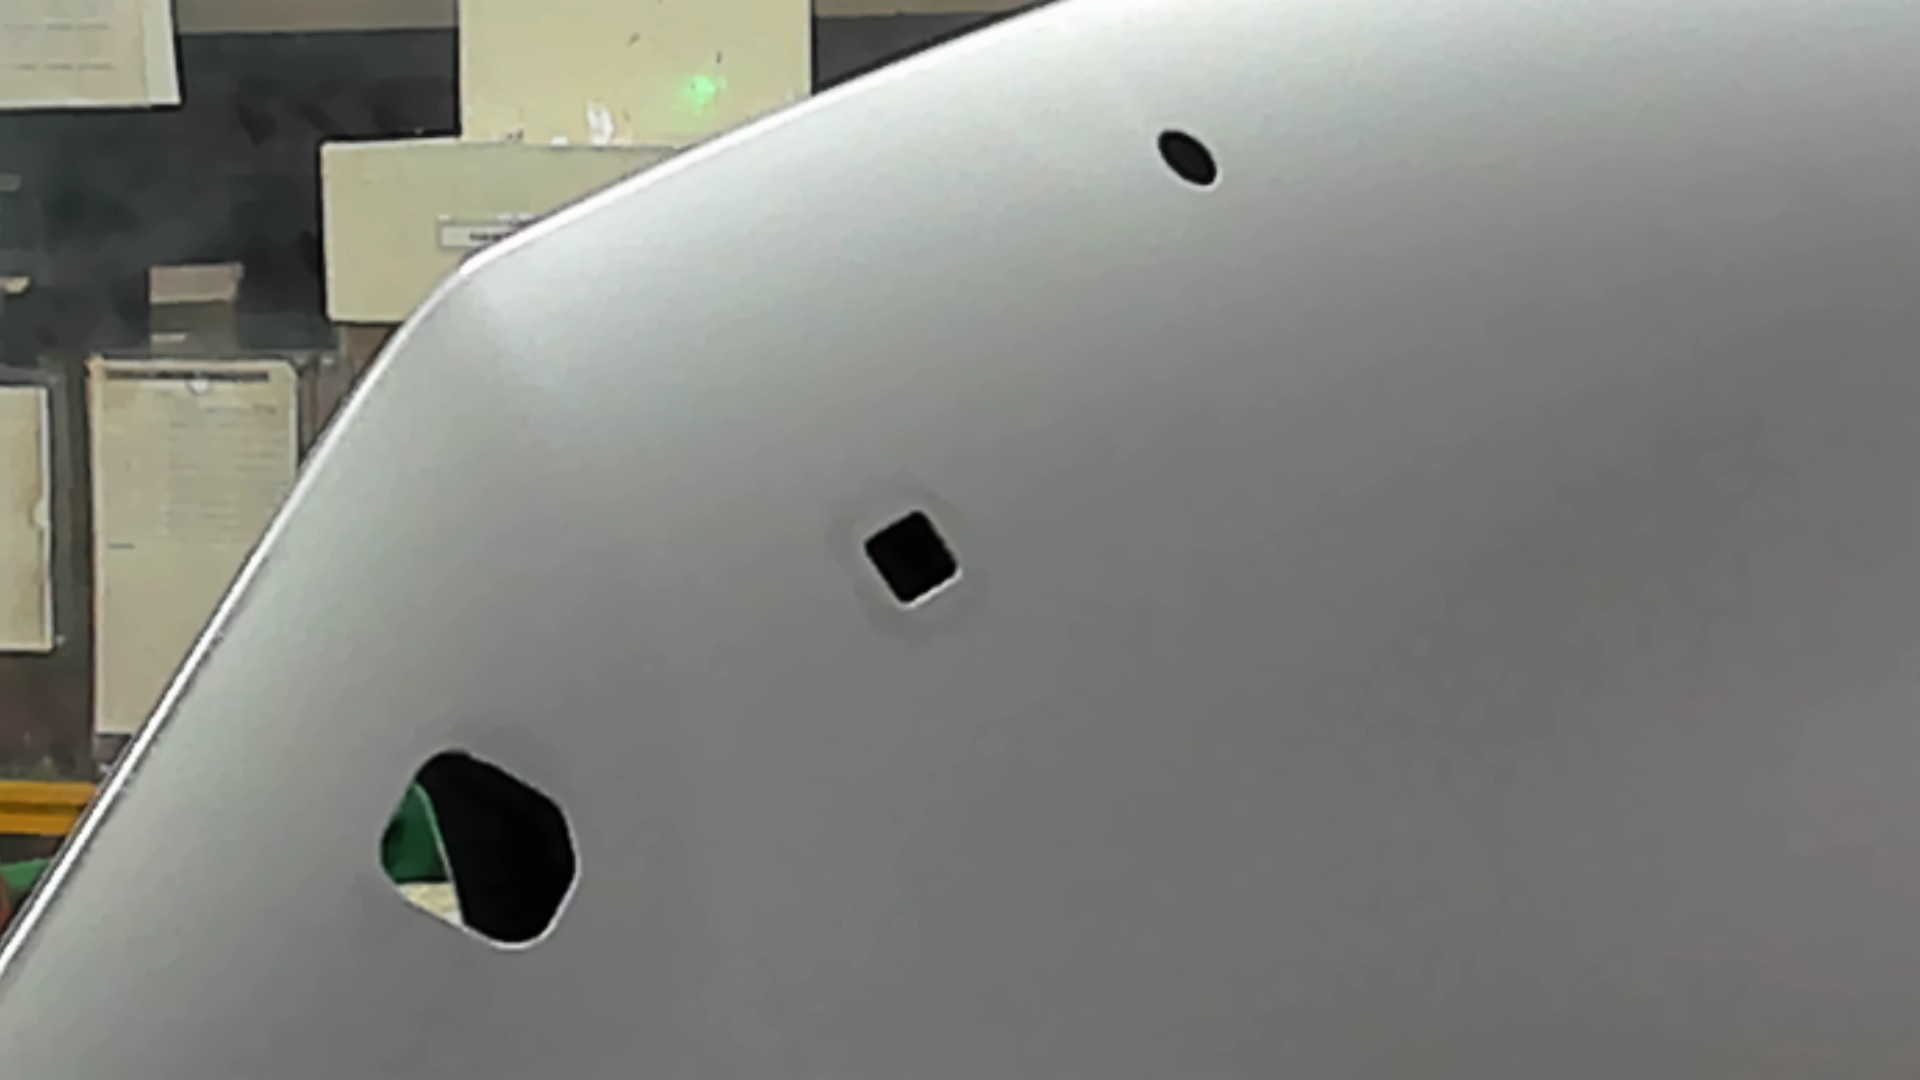chico: (1146, 113, 1236, 208)
grande: (360, 736, 600, 965)
mediano: (843, 491, 982, 628)
